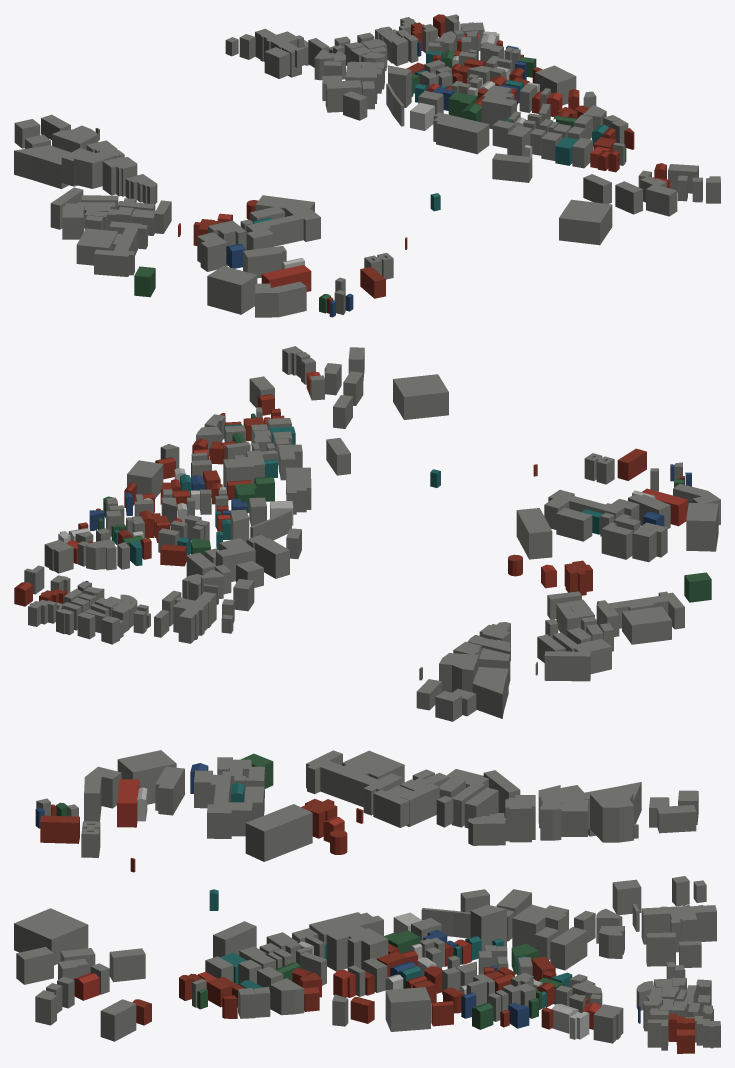
File: near-16-54722-29739.0a853e2c.glb
3 views of the same model, one above another, from view 1: azimuth 30°, elevation 25°; view 2: azimuth 150°, elevation 25°; view 3: azimuth 270°, elevation 25° (orthographic). The views are drawn at different scales.
Size of the model in its own units: 618 by 88.58 by 611.
